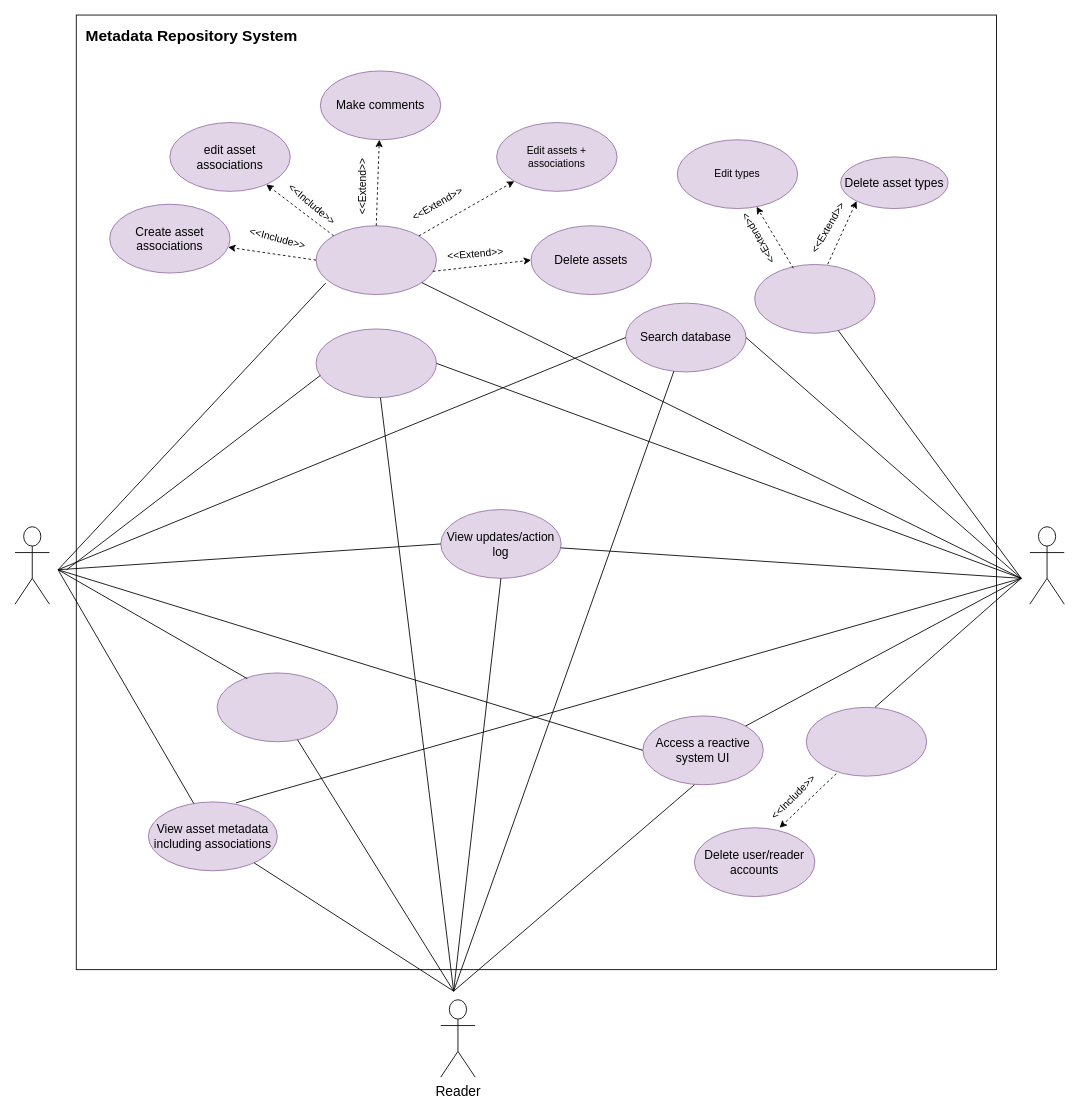
Image size: 1081x1115. Some labels were removed from this diagram. The shapes that lost their labels are listed below. From the top down, each one's centre as x and y in pixels, then its label:
At point (375, 260): "Create assets".
At point (814, 298): "Create asset types".
At point (375, 363): "Login".
At point (31, 565): "User".
At point (1046, 565): "Admin".
At point (277, 707): "Register".
At point (866, 741): "Control permissions".
